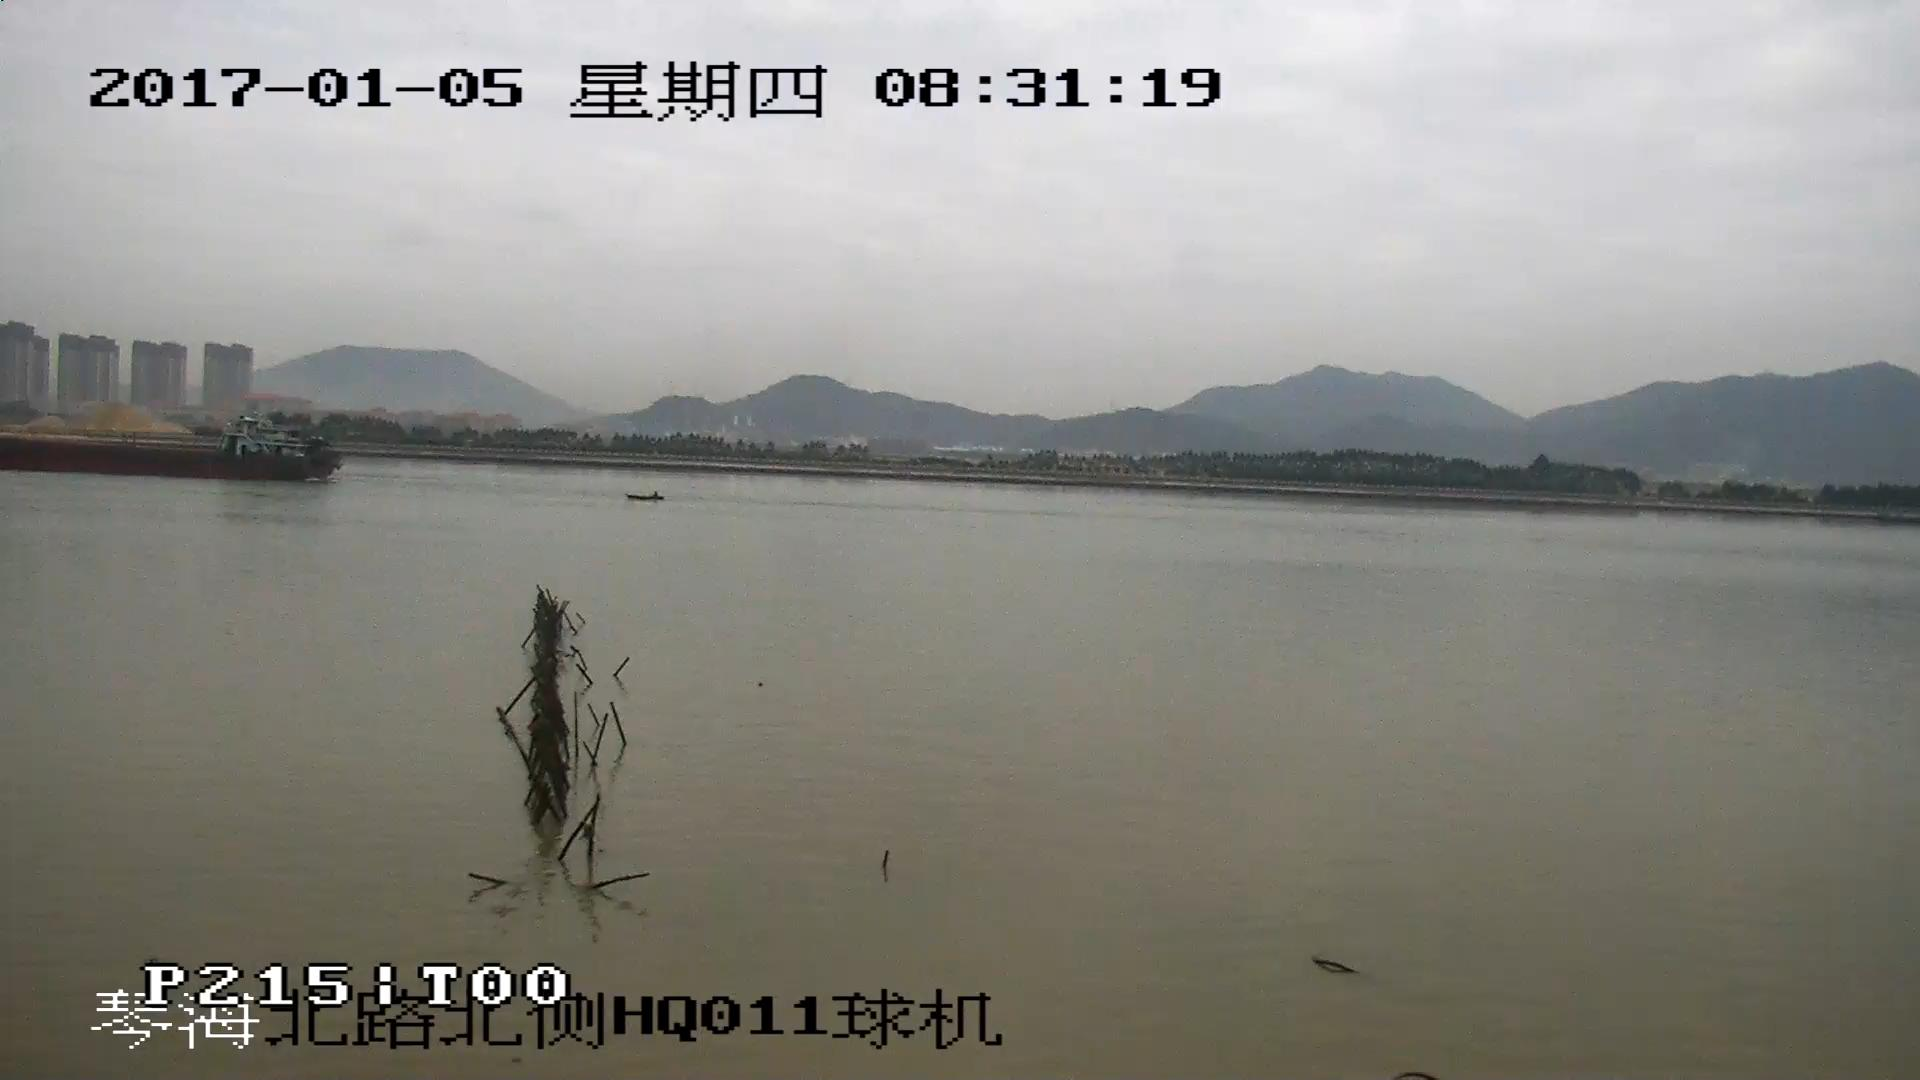bulk cargo carrier: (1, 420, 343, 480)
fishing boat: (625, 489, 665, 499)
